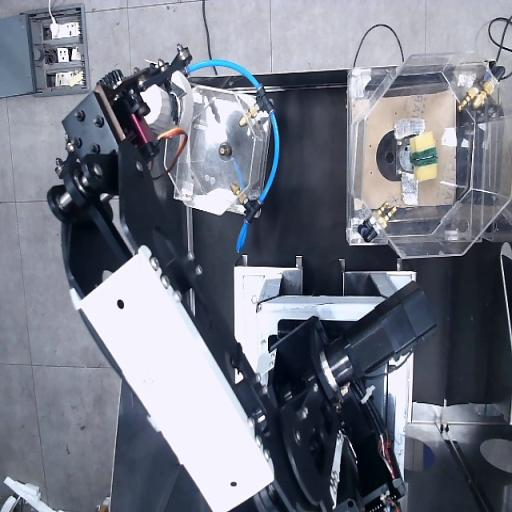cup in rinse station: (142, 71, 192, 133)
